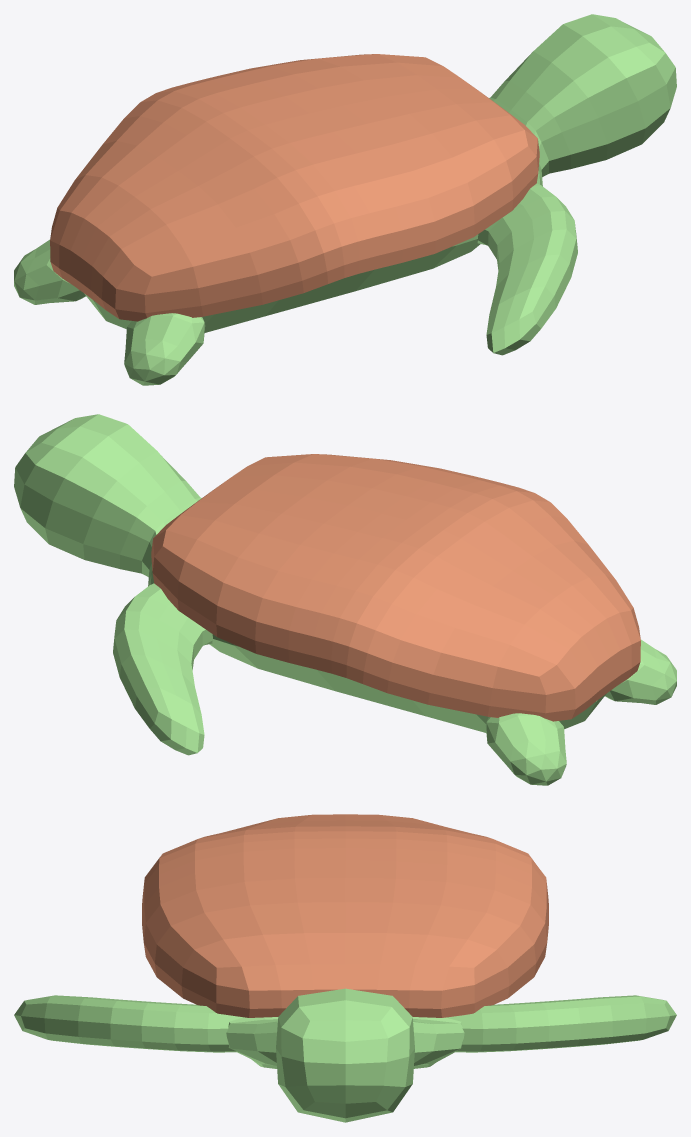
Rendered from turtle.glb.
3 views of the same model, one above another, from view 1: azimuth 30°, elevation 25°; view 2: azimuth 150°, elevation 25°; view 3: azimuth 270°, elevation 25° (orthographic). The views are drawn at different scales.
Visible parts, largest first — view 1: Cube.001; view 2: Cube.001; view 3: Cube.001.
Part boxes in pixels (<box>): Cube.001: <box>14,14,676,385</box>; Cube.001: <box>14,414,676,785</box>; Cube.001: <box>14,814,676,1122</box>.
Size of the model in its own units: 5.04 by 1.54 by 4.69.
